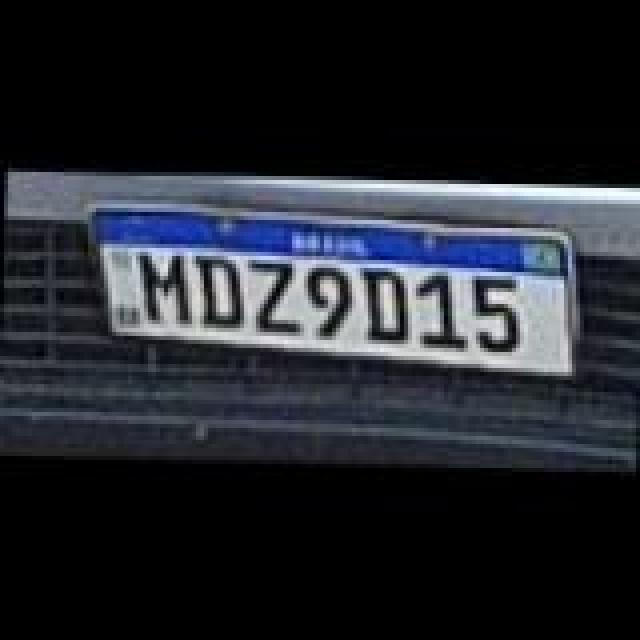1: (410, 272, 470, 348)
5: (466, 274, 526, 350)
9: (300, 262, 356, 334)
D: (352, 264, 416, 344), (192, 250, 252, 322)
M: (136, 246, 196, 318)
Z: (240, 252, 304, 332)
